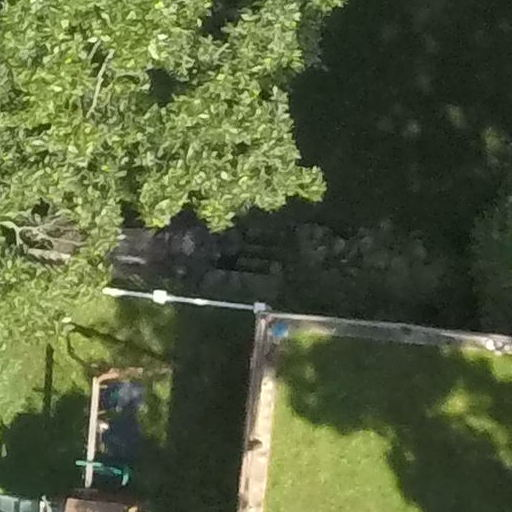fence: (68, 261, 512, 362), (231, 270, 291, 512)
